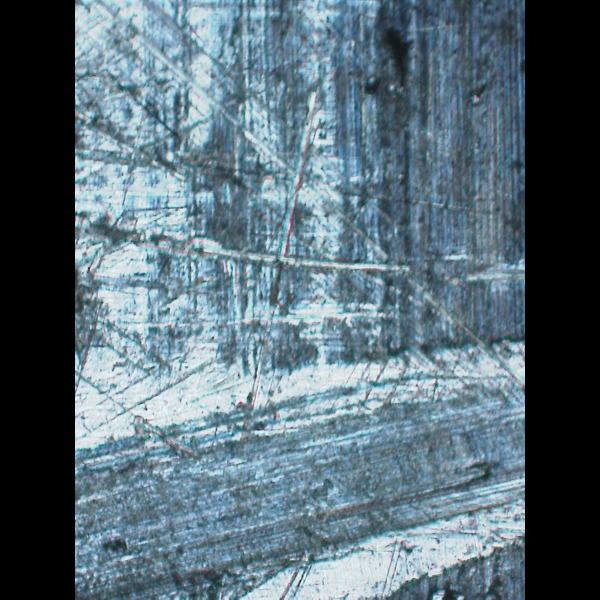d: (75, 7, 401, 599), (75, 329, 522, 600)
